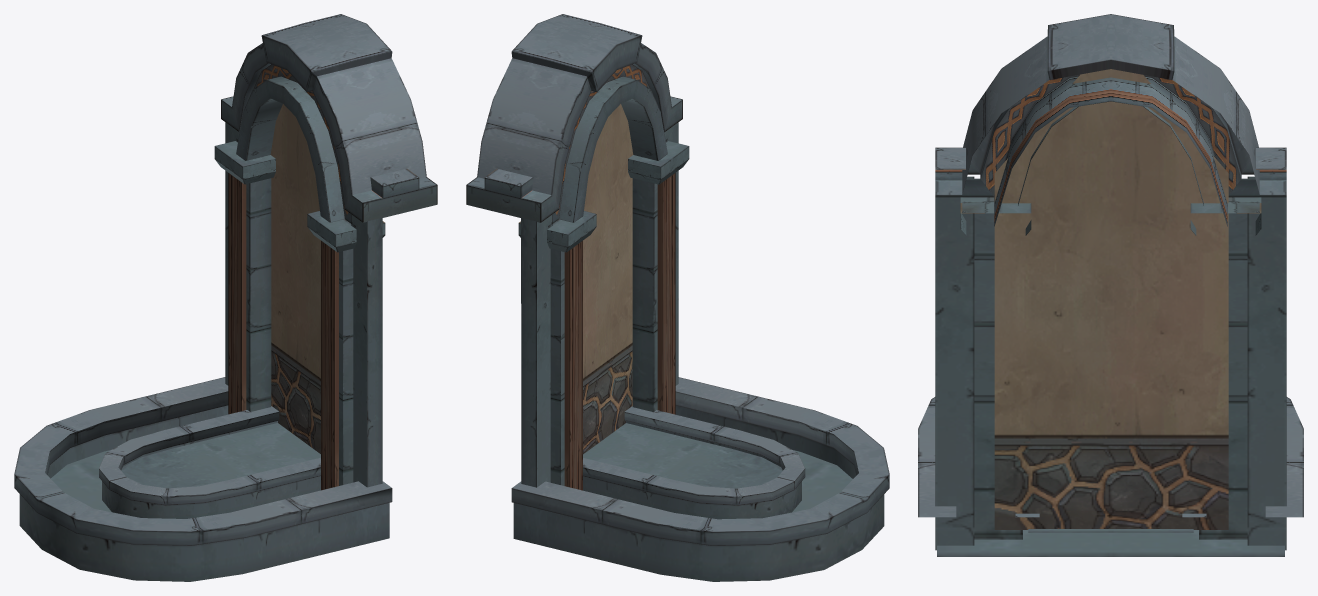
The model's file is 2_ChengZhen_PenQuan_01.FBX.
3 renders of one model, left to right at view 1: azimuth 30°, elevation 25°; view 2: azimuth 150°, elevation 25°; view 3: azimuth 270°, elevation 25°, orthographic. The views are drawn at different scales.
Visible parts, largest first — view 1: 2_ChengZhen_PenQuan_01, 2_ChengZhen_PenQuan_02; view 2: 2_ChengZhen_PenQuan_01, 2_ChengZhen_PenQuan_02; view 3: 2_ChengZhen_PenQuan_01, 2_ChengZhen_PenQuan_02.
Part boxes in pixels (left/top/right/bottom): 2_ChengZhen_PenQuan_01: left=214, top=14, right=437, bottom=490; 2_ChengZhen_PenQuan_02: left=14, top=377, right=392, bottom=581; 2_ChengZhen_PenQuan_01: left=466, top=14, right=689, bottom=490; 2_ChengZhen_PenQuan_02: left=511, top=377, right=889, bottom=581; 2_ChengZhen_PenQuan_01: left=935, top=14, right=1286, bottom=550; 2_ChengZhen_PenQuan_02: left=918, top=397, right=1303, bottom=556.
Bounding box in the file's own units: 749 × 969 × 612.
